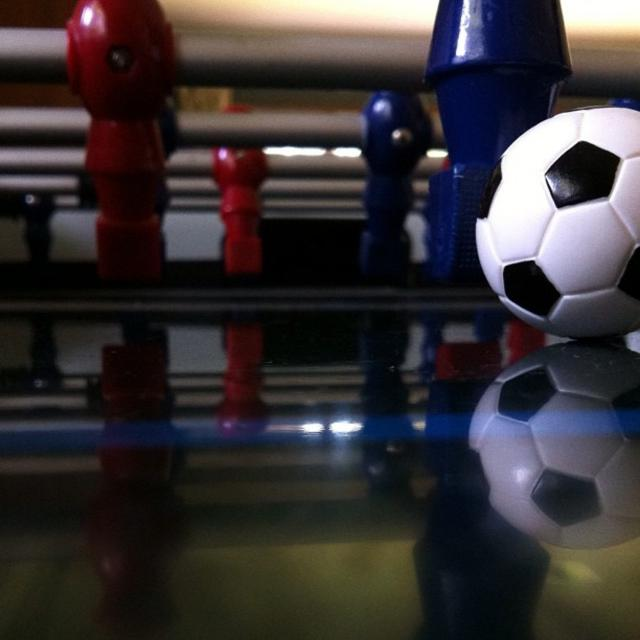Football: (472, 100, 638, 344)
